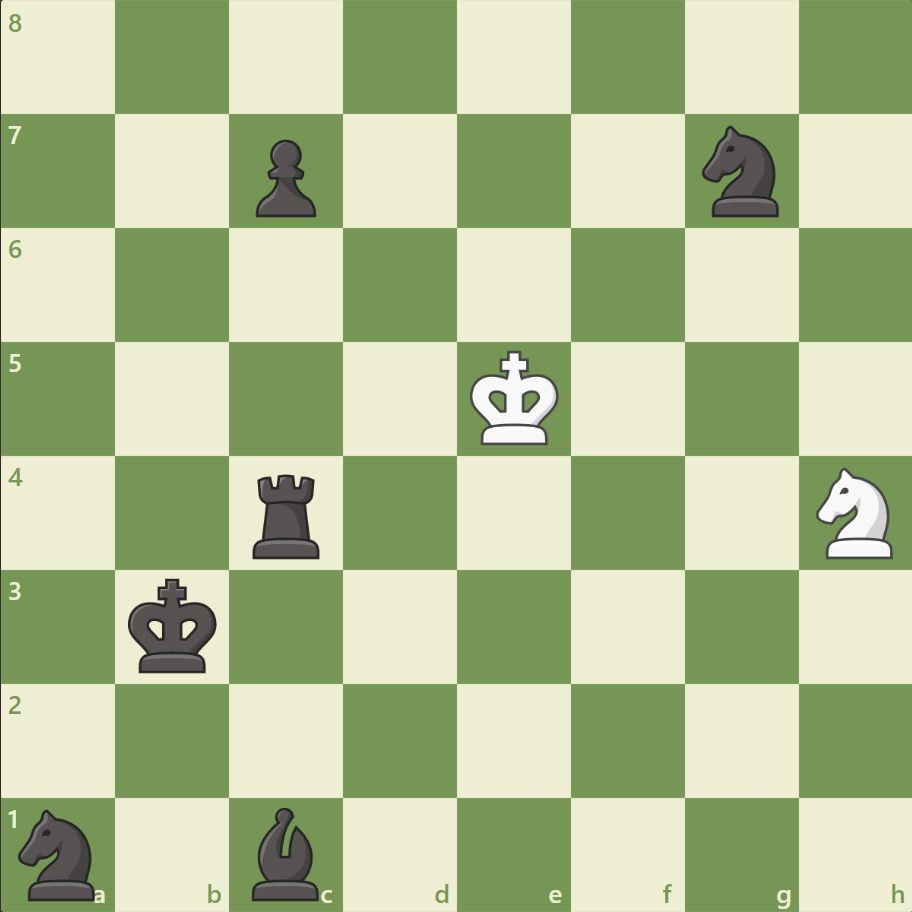K: (465, 344, 565, 452)
N: (806, 461, 903, 564)
b: (244, 801, 328, 904)
k: (124, 571, 224, 679)
n: (692, 121, 789, 223), (11, 802, 108, 904)
p: (247, 132, 322, 223)
r: (246, 466, 329, 563)
